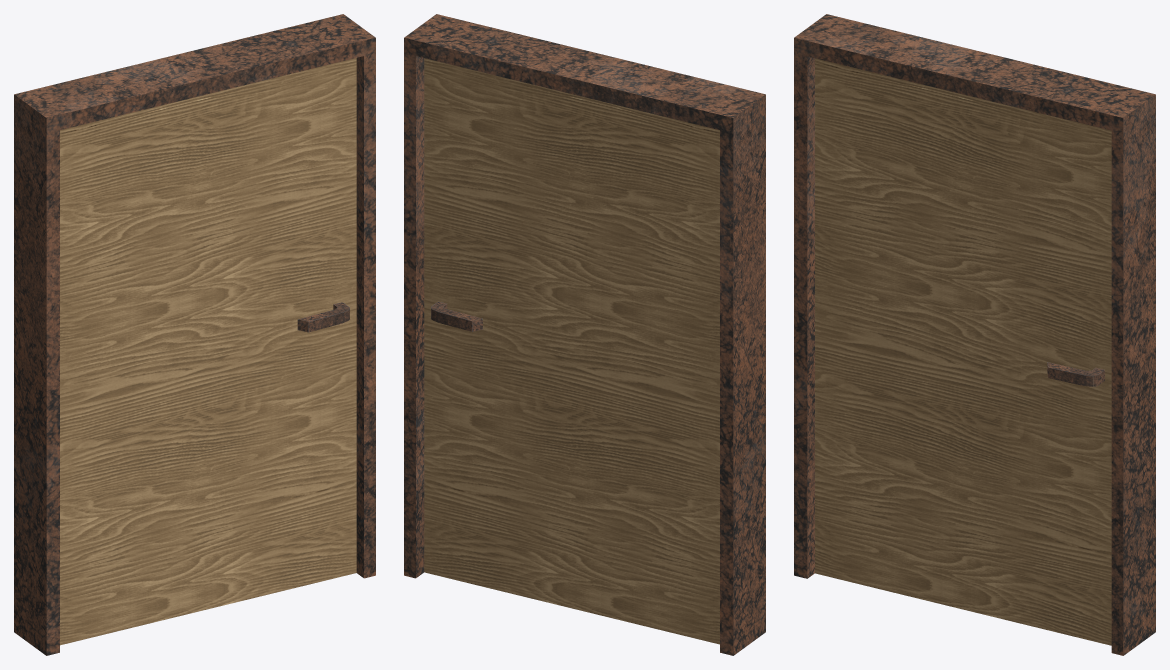
Rendered from Door.gltf.
3 views of the same model, side by side, from view 1: azimuth 30°, elevation 25°; view 2: azimuth 150°, elevation 25°; view 3: azimuth 330°, elevation 25° (orthographic).
Parts seen in each view (by area): view 1: Cube.002, Cube.001; view 2: Cube.002, Cube.001; view 3: Cube.002, Cube.001.
Boxes of the visible parts, <box> form: Cube.002: <box>60,58,356,645</box>; Cube.001: <box>14,14,375,655</box>; Cube.002: <box>424,58,719,644</box>; Cube.001: <box>404,14,765,655</box>; Cube.002: <box>815,58,1111,645</box>; Cube.001: <box>794,14,1155,655</box>.
Bounding box in the file's own units: 2.11 × 3.29 × 0.4412.
Materials: 2 (2 with a texture image).
